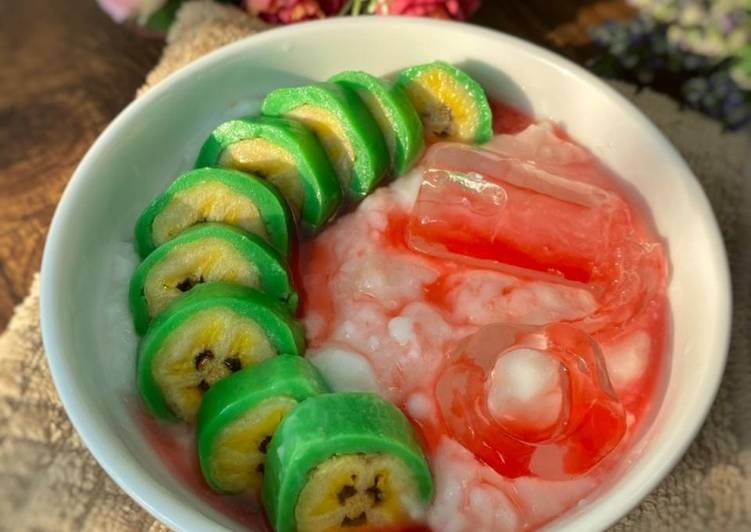pisang_ijo: (290, 382, 437, 532)
